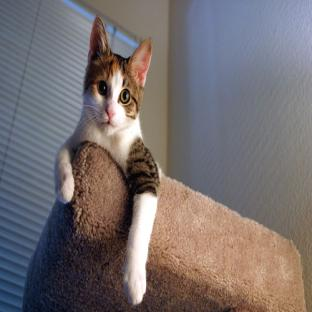Animal: (55, 16, 160, 304)
